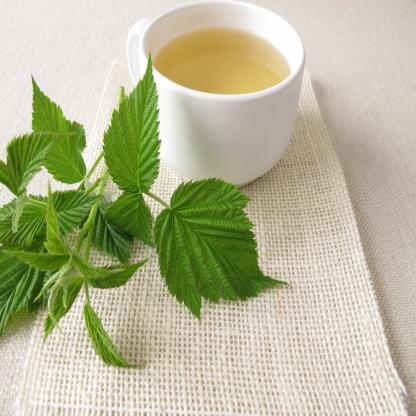Raspberry leaf: (152, 175, 295, 319), (105, 48, 162, 201), (28, 72, 92, 183)
